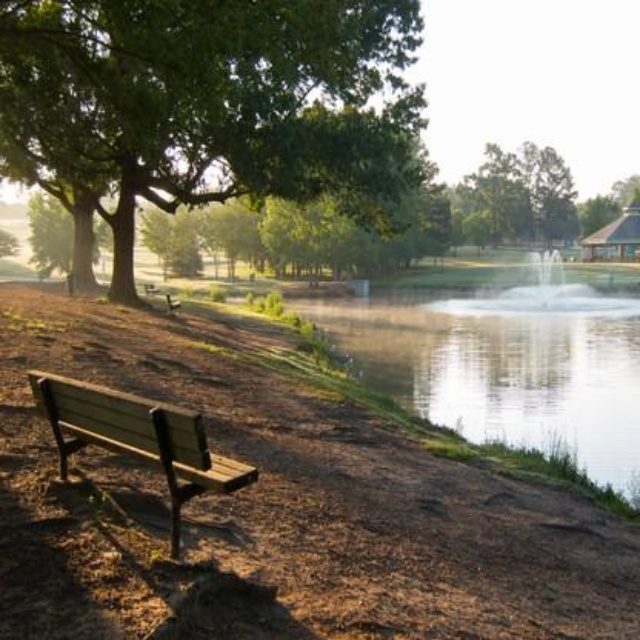obstacle: (22, 352, 274, 554)
